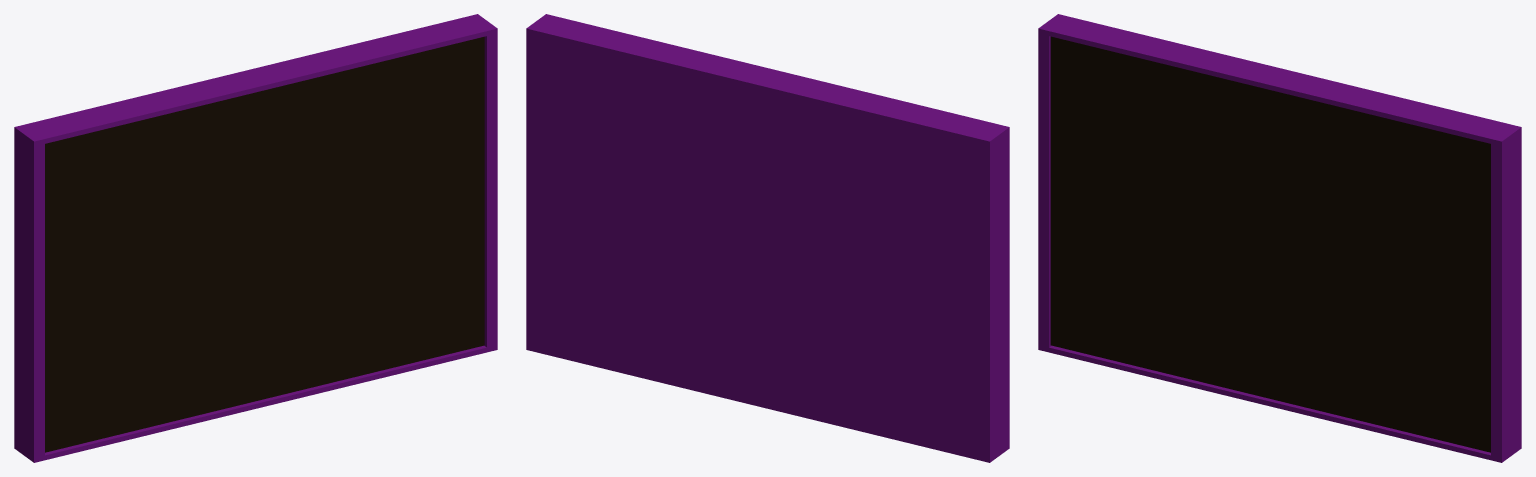
The model's file is Periodico Antiguo.fbx.
The picture shows the model from 3 angles, left to right: view 1: azimuth 30°, elevation 25°; view 2: azimuth 150°, elevation 25°; view 3: azimuth 330°, elevation 25°; orthographic projection.
Parts seen in each view (by area): view 1: Object012, Box050; view 2: Box050; view 3: Object012, Box050.
Part boxes in pixels (x1=…): Object012: x1=45, y1=36, x2=484, y2=452; Box050: x1=14, y1=14, x2=497, y2=462; Box050: x1=526, y1=14, x2=1009, y2=462; Object012: x1=1050, y1=36, x2=1490, y2=452; Box050: x1=1038, y1=14, x2=1521, y2=462.
Size of the model in its own units: 22.14 by 14.67 by 1.64.
